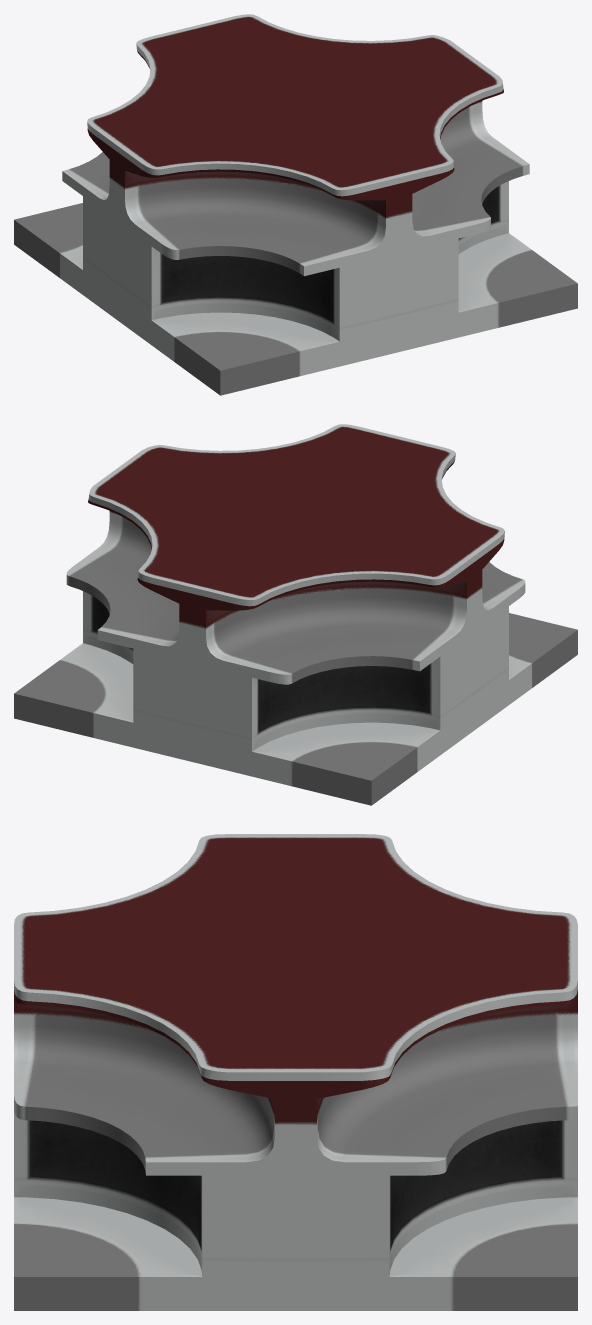
Rendered from Room_Floor_Cross_A_B.FBX.
The picture shows the model from 3 angles, top to bottom: view 1: azimuth 30°, elevation 25°; view 2: azimuth 150°, elevation 25°; view 3: azimuth 270°, elevation 25°; orthographic projection. The views are drawn at different scales.
Parts seen in each view (by area): view 1: Room_Floor_Cross_A_B; view 2: Room_Floor_Cross_A_B; view 3: Room_Floor_Cross_A_B.
Part boxes in pixels (x1,y1,x2,y2): Room_Floor_Cross_A_B: (14, 14, 577, 395); Room_Floor_Cross_A_B: (14, 424, 577, 805); Room_Floor_Cross_A_B: (14, 834, 577, 1310).
Bounding box in the file's own units: 300 × 140 × 300.
1 material, 1 textured.
